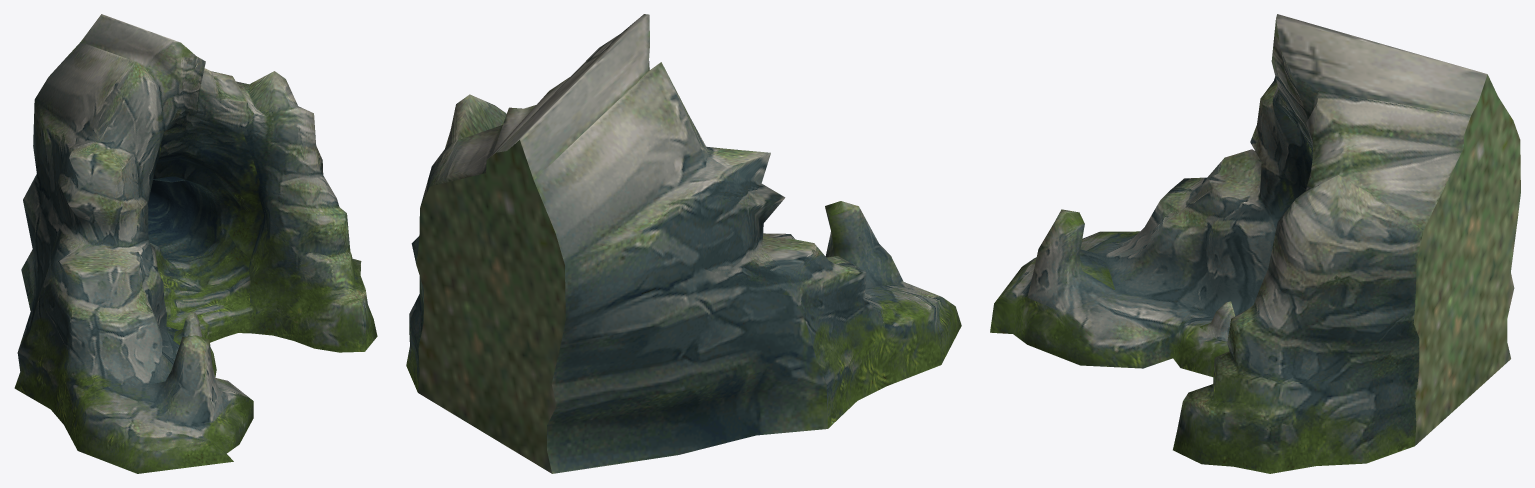
The model's file is 4002_Item_shitou_7.FBX.
The picture shows the model from 3 angles, left to right: view 1: azimuth 30°, elevation 25°; view 2: azimuth 150°, elevation 25°; view 3: azimuth 270°, elevation 25°; orthographic projection. The views are drawn at different scales.
Visible parts, largest first — view 1: 4002_Item_shitou_7; view 2: 4002_Item_shitou_7; view 3: 4002_Item_shitou_7.
Part boxes in pixels (x1,y1,x2,y2): 4002_Item_shitou_7: (14,14,377,473); 4002_Item_shitou_7: (406,14,961,473); 4002_Item_shitou_7: (990,14,1520,473).
Size of the model in its own units: 915 by 1024 by 757.
Materials: 1 (1 with a texture image).
